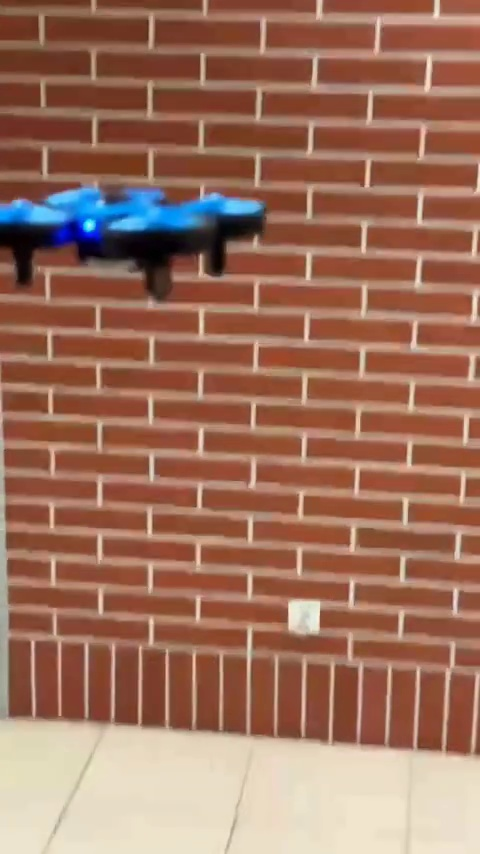drone: (0, 183, 268, 289)
